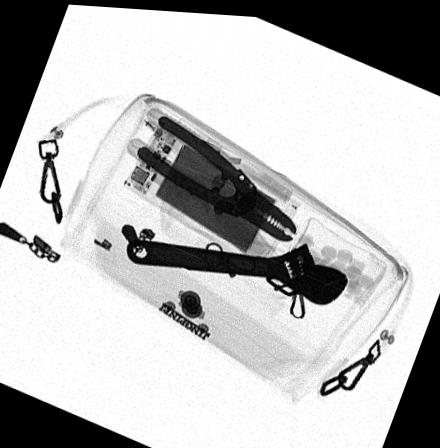Pliers: (135, 111, 299, 240)
Powerbank: (124, 114, 298, 269)
Wrench: (125, 235, 347, 300)
